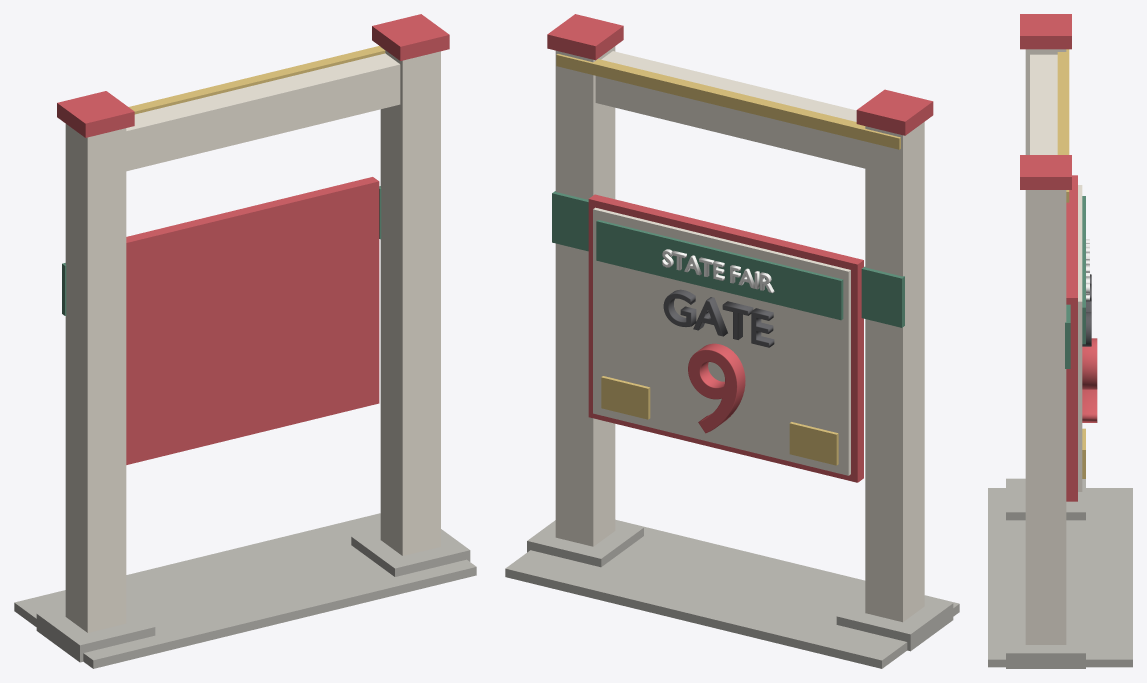
Rendered from state-fair-gate-09.glb.
3 views of the same model, side by side, from view 1: azimuth 30°, elevation 25°; view 2: azimuth 150°, elevation 25°; view 3: azimuth 270°, elevation 25° (orthographic). The views are drawn at different scales.
Parts seen in each view (by area): view 1: SFG_SignBack, SFG_PostL, SFG_PostR, SFG_Pad, SFG_HeaderBeam, SFG_FootingL, SFG_FootingR, SFG_PostCapL, SFG_PostCapR, SFG_HeaderAccent; view 2: SFG_SignFace, SFG_PostL, SFG_Pad, SFG_PostR, SFG_HeaderBeam, SFG_Ribbon, SFG_SignBack, SFG_HeaderAccent, SFG_GateNumber, SFG_FootingL, SFG_GateLabel, SFG_FootingR (+7 smaller); view 3: SFG_PostR, SFG_Pad, SFG_SignBack, SFG_FootingR, SFG_HeaderBeam, SFG_PostCapL, SFG_PostCapR, SFG_SignFace, SFG_HeaderAccent, SFG_FootingL, SFG_GateNumber, SFG_PostL (+4 smaller).
Part boxes in pixels (left/top/right/bottom): SFG_SignBack: left=126, top=177, right=379, bottom=464; SFG_PostL: left=65, top=124, right=126, bottom=632; SFG_PostR: left=380, top=47, right=440, bottom=555; SFG_Pad: left=14, top=513, right=476, bottom=668; SFG_HeaderBeam: left=126, top=53, right=400, bottom=171; SFG_FootingL: left=36, top=606, right=155, bottom=662; SFG_FootingR: left=351, top=529, right=470, bottom=576; SFG_PostCapL: left=57, top=91, right=134, bottom=137; SFG_PostCapR: left=372, top=14, right=449, bottom=60; SFG_HeaderAccent: left=129, top=46, right=385, bottom=114; SFG_SignFace: left=593, top=207, right=850, bottom=475; SFG_PostL: left=865, top=122, right=924, bottom=622; SFG_Pad: left=505, top=519, right=959, bottom=668; SFG_PostR: left=555, top=46, right=615, bottom=546; SFG_HeaderBeam: left=595, top=51, right=865, bottom=168; SFG_Ribbon: left=596, top=220, right=843, bottom=320; SFG_SignBack: left=588, top=194, right=863, bottom=482; SFG_HeaderAccent: left=556, top=54, right=900, bottom=149; SFG_GateNumber: left=688, top=343, right=745, bottom=433; SFG_FootingL: left=836, top=596, right=953, bottom=651; SFG_GateLabel: left=663, top=289, right=774, bottom=347; SFG_FootingR: left=527, top=520, right=643, bottom=567; SFG_PostR: left=1025, top=190, right=1066, bottom=644; SFG_Pad: left=988, top=488, right=1132, bottom=667; SFG_SignBack: left=1066, top=175, right=1077, bottom=501; SFG_FootingR: left=1006, top=619, right=1085, bottom=668; SFG_HeaderBeam: left=1030, top=54, right=1057, bottom=154; SFG_PostCapL: left=1020, top=14, right=1071, bottom=49; SFG_PostCapR: left=1020, top=155, right=1071, bottom=189; SFG_SignFace: left=1078, top=185, right=1082, bottom=491; SFG_HeaderAccent: left=1057, top=49, right=1069, bottom=202; SFG_FootingL: left=1006, top=478, right=1085, bottom=520; SFG_GateNumber: left=1082, top=338, right=1097, bottom=422; SFG_PostL: left=1025, top=49, right=1066, bottom=154.
Size of the model in its own units: 2.85 by 3.7 by 1.
